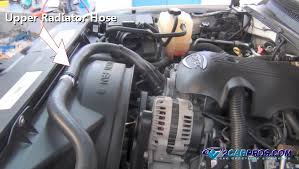radiator_hose: (42, 39, 107, 127)
